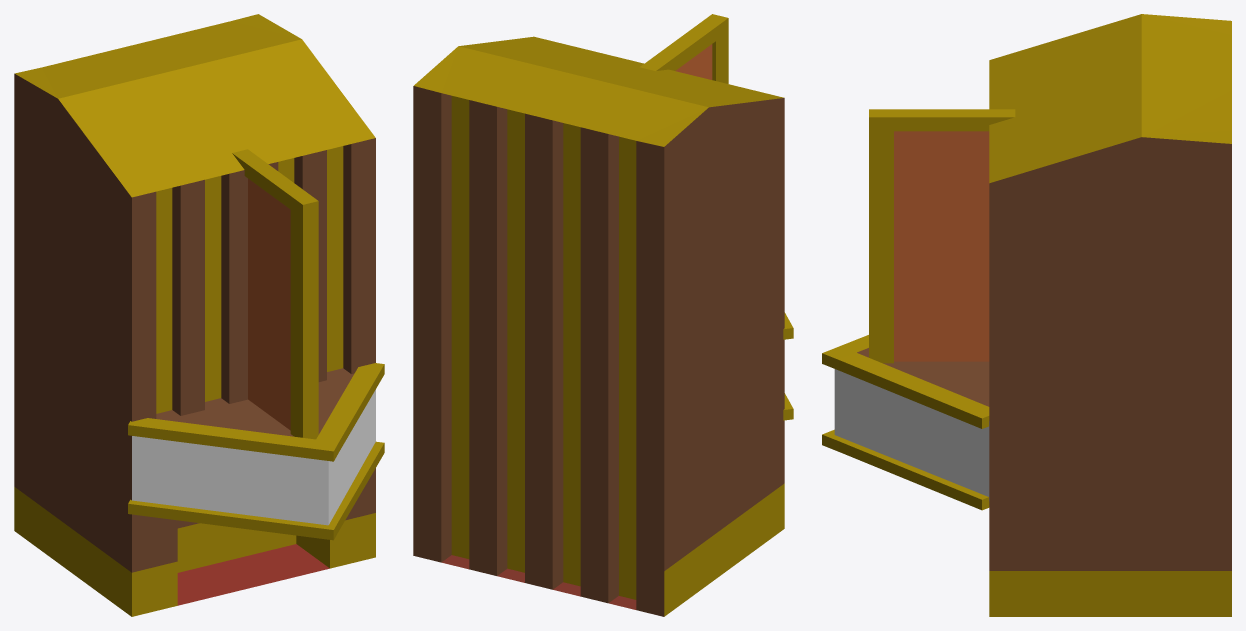
File: JazzCinema2.obj
The picture shows the model from 3 angles, left to right: view 1: azimuth 30°, elevation 25°; view 2: azimuth 150°, elevation 25°; view 3: azimuth 270°, elevation 25°; orthographic projection. The views are drawn at different scales.
Visible parts, largest first — view 1: KinoJazzDONE.003; view 2: KinoJazzDONE.003; view 3: KinoJazzDONE.003.
Boxes of the visible parts, x1=… form: KinoJazzDONE.003: x1=14, y1=14, x2=384, y2=616; KinoJazzDONE.003: x1=413, y1=14, x2=793, y2=616; KinoJazzDONE.003: x1=822, y1=14, x2=1231, y2=616.
Size of the model in its own units: 6.28 by 10.9 by 8.44.
